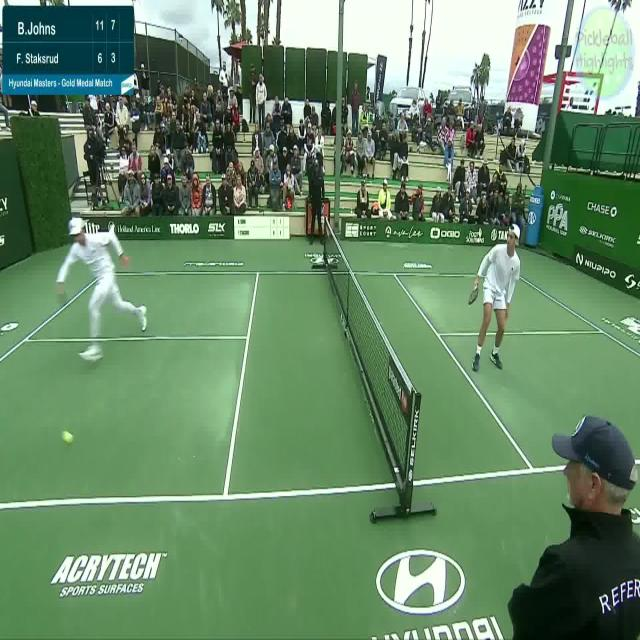ball: (59, 423, 76, 449)
